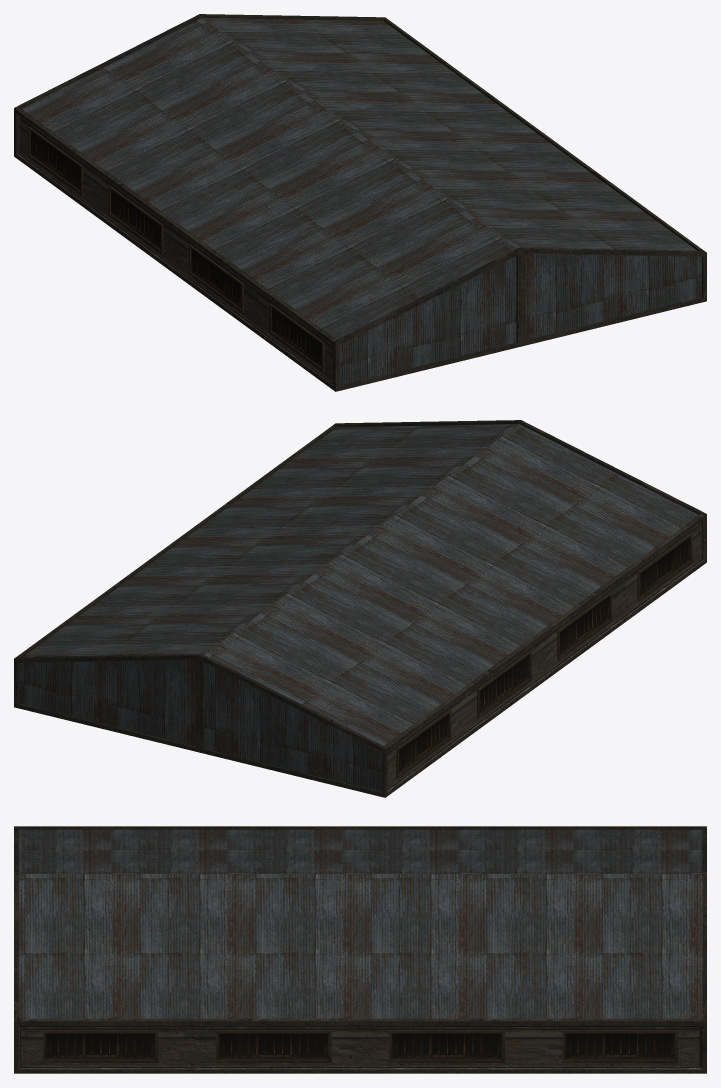
File: roof_mh_4_a_3.dae
The picture shows the model from 3 angles, top to bottom: view 1: azimuth 30°, elevation 25°; view 2: azimuth 150°, elevation 25°; view 3: azimuth 270°, elevation 25°; orthographic projection. The views are drawn at different scales.
Parts seen in each view (by area): view 1: roof_mh_4_a_3; view 2: roof_mh_4_a_3; view 3: roof_mh_4_a_3.
Boxes of the visible parts, x1,y1,x2,y2 form: roof_mh_4_a_3: [14, 14, 706, 391]; roof_mh_4_a_3: [14, 420, 706, 797]; roof_mh_4_a_3: [14, 826, 706, 1073].
Bounding box in the file's own units: 8 × 12 × 2.
Materials: 6 (6 with a texture image).
